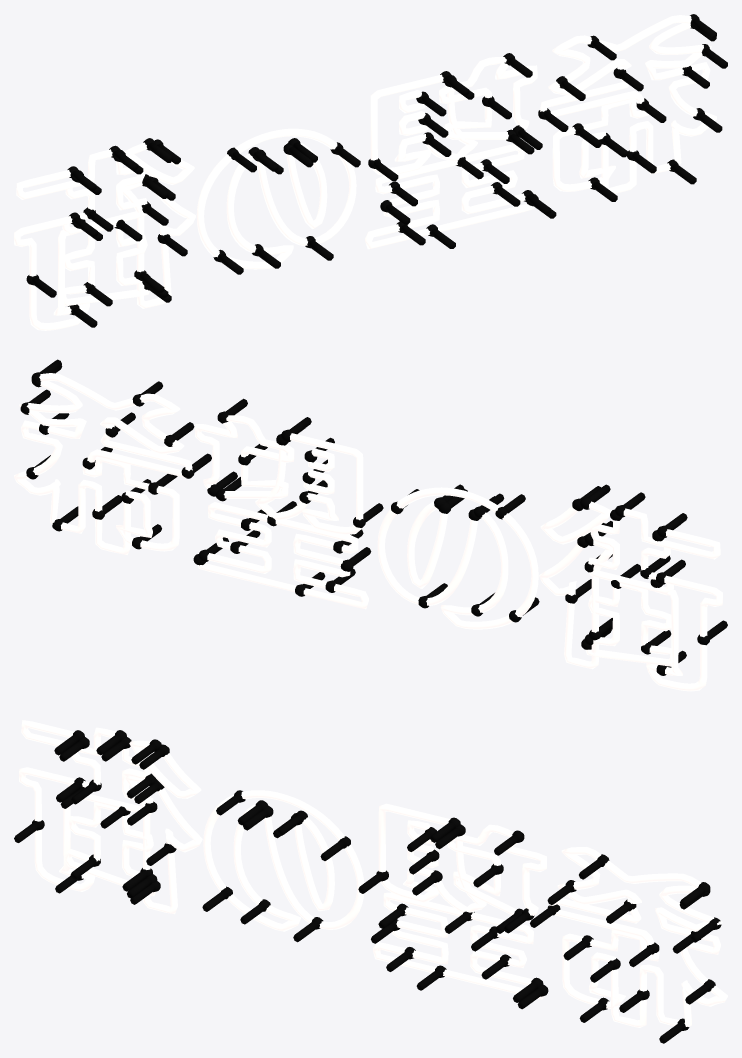
File: neon_kibounomati.fbx
3 renders of one model, top to bottom at view 1: azimuth 30°, elevation 25°; view 2: azimuth 150°, elevation 25°; view 3: azimuth 330°, elevation 25°, orthographic.
Visible parts, largest first — view 1: NeonEnglish; view 2: NeonEnglish; view 3: NeonEnglish.
Boxes of the visible parts, <box> form: NeonEnglish: <box>14,14,727,330</box>; NeonEnglish: <box>14,359,727,691</box>; NeonEnglish: <box>14,720,727,1043</box>.
Size of the model in its own units: 372 by 85.86 by 21.29.
